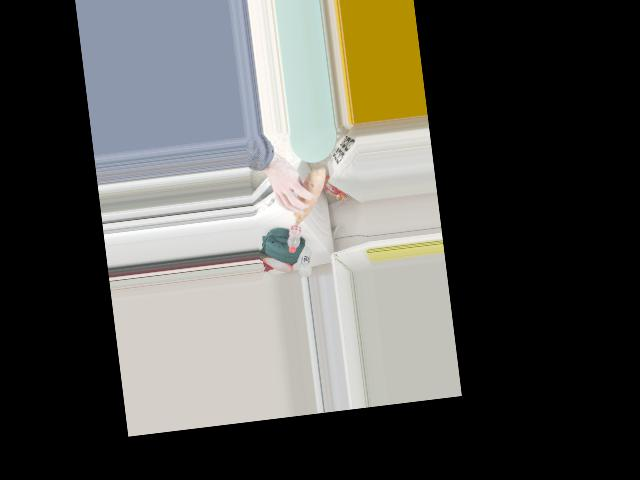sweet_potato: (282, 175, 330, 223)
